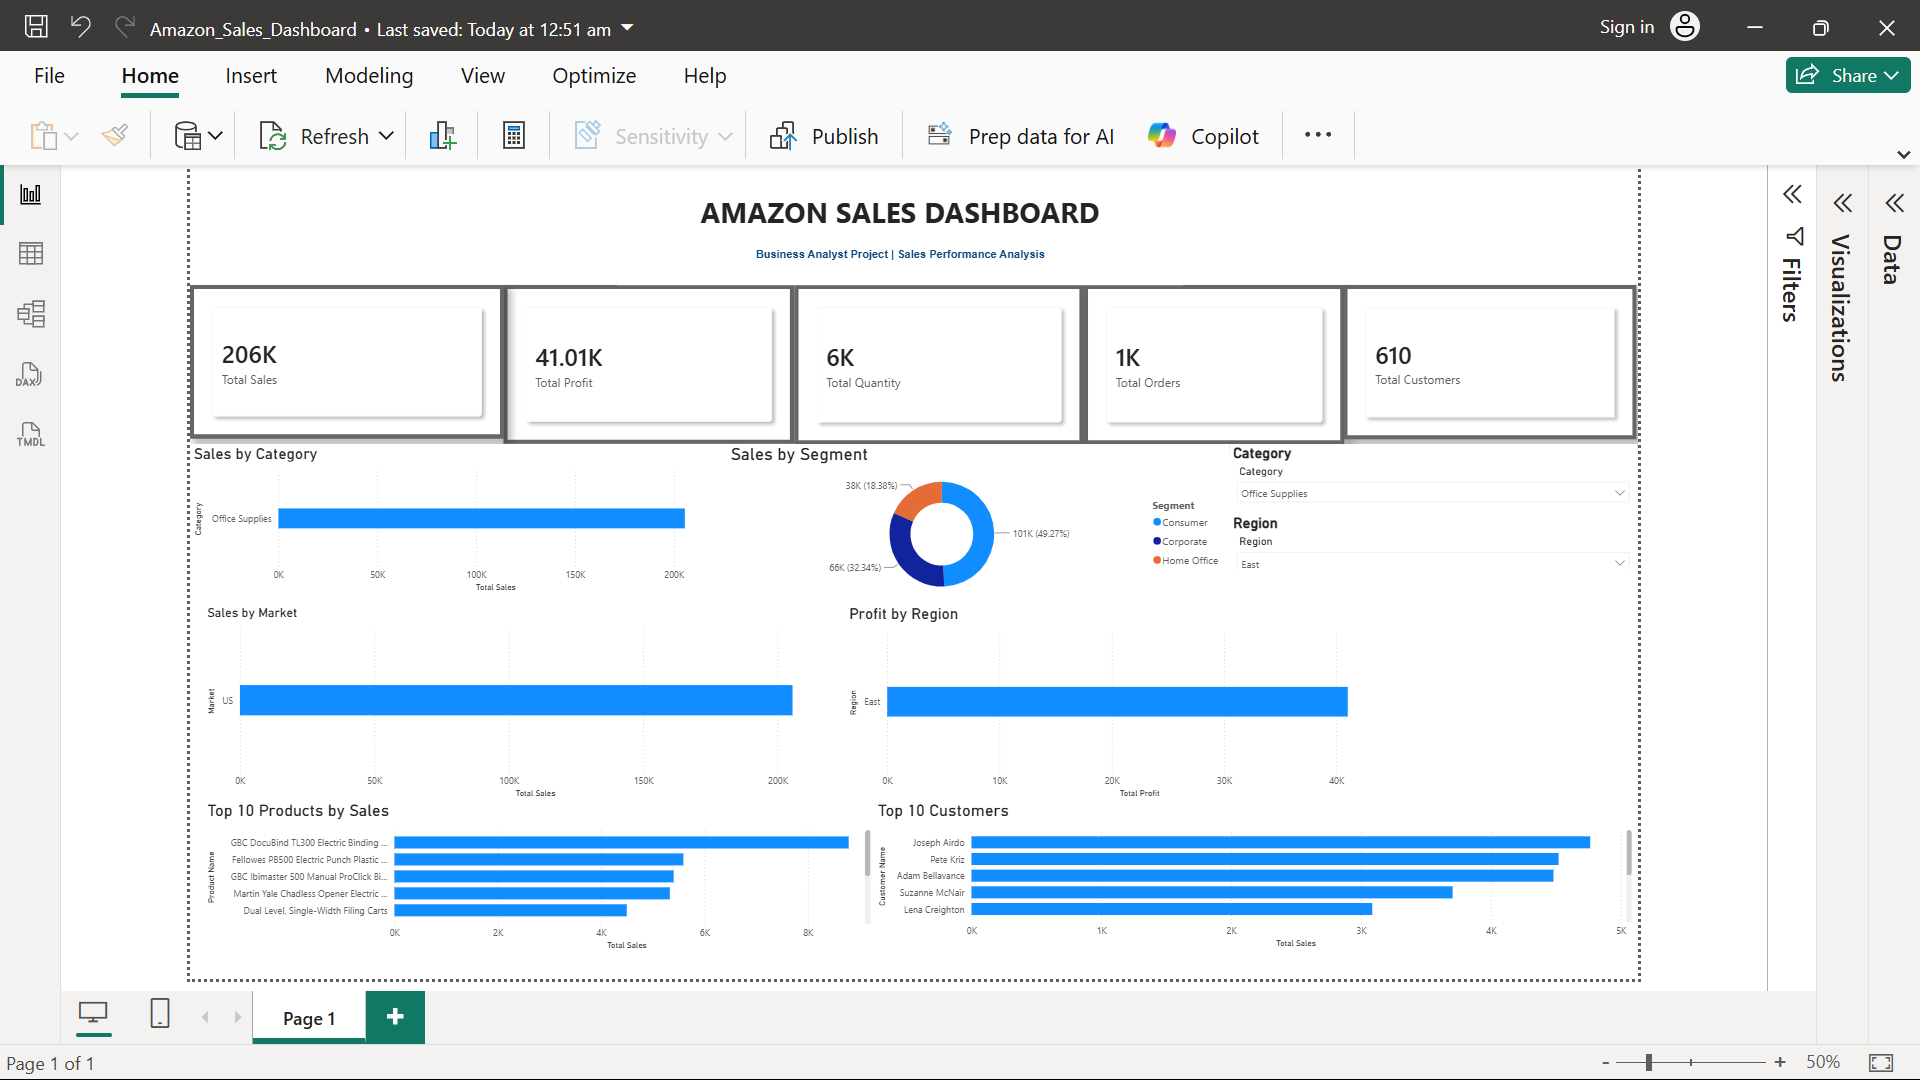

What the dashboard file says about the page in this screenshot:
{"tool":"powerbi","page":{"name":"Page 1","canvas":[1920,1080],"ordinal":0},"visuals":[{"type":"cardVisual","fields":{"Data":["Amazon_Sales_Cleaned xlsx.Total Profit"]},"box":[416.5,160,385.8,210.5],"z":0},{"type":"cardVisual","fields":{"Data":["Amazon_Sales_Cleaned xlsx.Total Quantity"]},"box":[801.8,159,383.9,211.2],"z":1000},{"type":"cardVisual","fields":{"Data":["Amazon_Sales_Cleaned xlsx.Total Orders"]},"box":[1185.6,159,345.2,211.2],"z":2000},{"type":"cardVisual","fields":{"Data":["Amazon_Sales_Cleaned xlsx.Total Customers"]},"box":[1530.9,159,388.4,204.4],"z":3000},{"type":"cardVisual","fields":{"Data":["Amazon_Sales_Cleaned xlsx.Total Sales"]},"box":[0,160,416.5,203.9],"z":4000},{"type":"clusteredBarChart","title":"Sales by Category","fields":{"Category":["Amazon_Sales_Cleaned xlsx.Category"],"Y":["Amazon_Sales_Cleaned xlsx.Total Sales"]},"box":[0,370.2,713.2,199.9],"z":5000},{"type":"clusteredBarChart","title":"Profit by Region","fields":{"Y":["Amazon_Sales_Cleaned xlsx.Total Profit"],"Category":["Amazon_Sales_Cleaned xlsx.Region"]},"box":[869.9,583.7,740.4,261.2],"z":6000},{"type":"clusteredBarChart","title":"Top 10 Products by Sales","fields":{"Category":["Amazon_Sales_Cleaned xlsx.Product Name"],"Y":["Amazon_Sales_Cleaned xlsx.Total Sales"]},"box":[17.5,844,890,201.7],"z":7000},{"type":"clusteredBarChart","title":"Top 10 Customers","fields":{"Category":["Amazon_Sales_Cleaned xlsx.Customer Name"],"Y":["Amazon_Sales_Cleaned xlsx.Total Sales"]},"box":[907.6,844,1010.6,199.5],"z":8000},{"type":"donutChart","title":"Sales by Segment","fields":{"Category":["Amazon_Sales_Cleaned xlsx.Segment"],"Y":["Amazon_Sales_Cleaned xlsx.Total Sales"]},"box":[712.5,370.5,666.4,212.6],"z":9000},{"type":"slicer","title":"Region","fields":{"Values":["Amazon_Sales_Cleaned xlsx.Region"]},"box":[1378.7,463.3,540.6,75],"z":10000},{"type":"slicer","title":"Category","fields":{"Values":["Amazon_Sales_Cleaned xlsx.Category"]},"box":[1378.7,370.2,540.6,79.5],"z":11000},{"type":"clusteredBarChart","title":"Sales by Market","fields":{"Category":["Amazon_Sales_Cleaned xlsx.Market"],"Y":["Amazon_Sales_Cleaned xlsx.Total Sales"]},"box":[18.2,583.7,851.7,261.2],"z":12000},{"type":"shape","box":[0,0,1919.3,159],"z":13000},{"type":"textbox","box":[567.8,31.8,749.5,95.4],"z":14000},{"type":"textbox","box":[567.8,104.5,749.5,54.5],"z":15000}]}

Visuals, with their boxes on the page's 1920x1080 design canvas (x1, y1, x2, y2). These are canvas units, not pixel positions in the 1920x1080 screenshot, which may show the page scaled, cropped or inside an application window:
cardVisual - Amazon_Sales_Cleaned xlsx.Total Profit: rect(416, 160, 802, 370)
cardVisual - Amazon_Sales_Cleaned xlsx.Total Quantity: rect(802, 159, 1186, 370)
cardVisual - Amazon_Sales_Cleaned xlsx.Total Orders: rect(1186, 159, 1531, 370)
cardVisual - Amazon_Sales_Cleaned xlsx.Total Customers: rect(1531, 159, 1919, 363)
cardVisual - Amazon_Sales_Cleaned xlsx.Total Sales: rect(0, 160, 416, 364)
"Sales by Category" clusteredBarChart: rect(0, 370, 713, 570)
"Profit by Region" clusteredBarChart: rect(870, 584, 1610, 845)
"Top 10 Products by Sales" clusteredBarChart: rect(18, 844, 908, 1046)
"Top 10 Customers" clusteredBarChart: rect(908, 844, 1918, 1044)
"Sales by Segment" donutChart: rect(712, 370, 1379, 583)
"Region" slicer: rect(1379, 463, 1919, 538)
"Category" slicer: rect(1379, 370, 1919, 450)
"Sales by Market" clusteredBarChart: rect(18, 584, 870, 845)
shape: rect(0, 0, 1919, 159)
textbox: rect(568, 32, 1317, 127)
textbox: rect(568, 104, 1317, 159)
